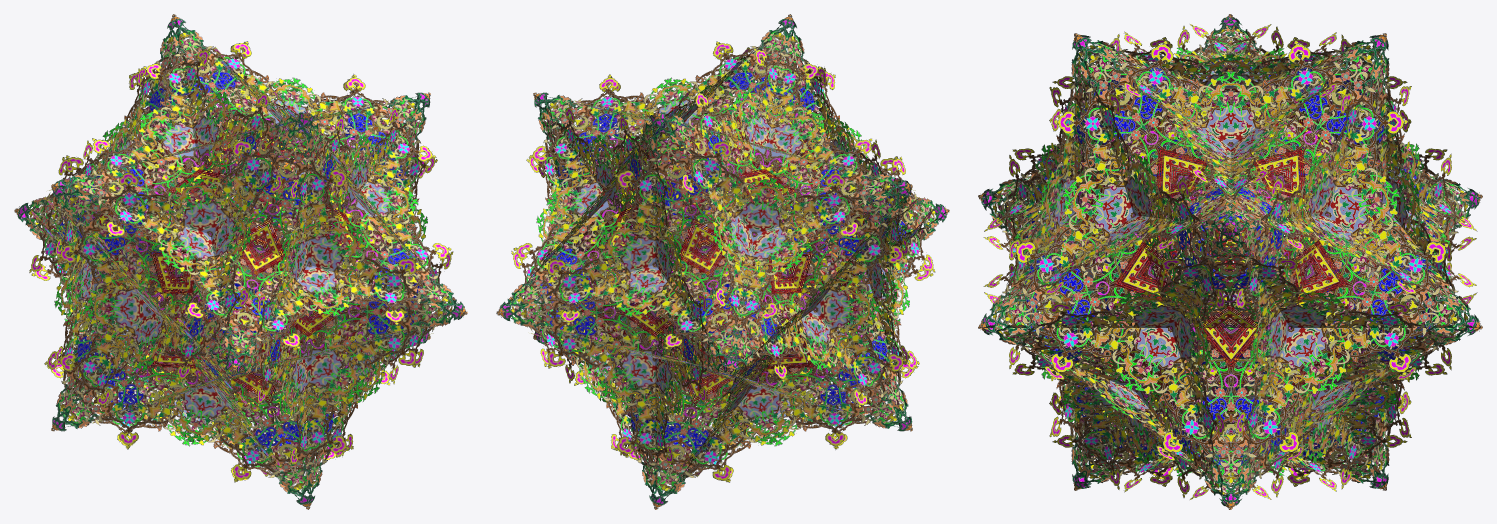
Rendered from GreatDodecahedron11.obj.
The picture shows the model from 3 angles, left to right: view 1: azimuth 30°, elevation 25°; view 2: azimuth 150°, elevation 25°; view 3: azimuth 270°, elevation 25°; orthographic projection. The views are drawn at different scales.
Bounding box in the file's own units: 1.62 × 1.62 × 1.62.
Materials: 1 (1 with a texture image).
